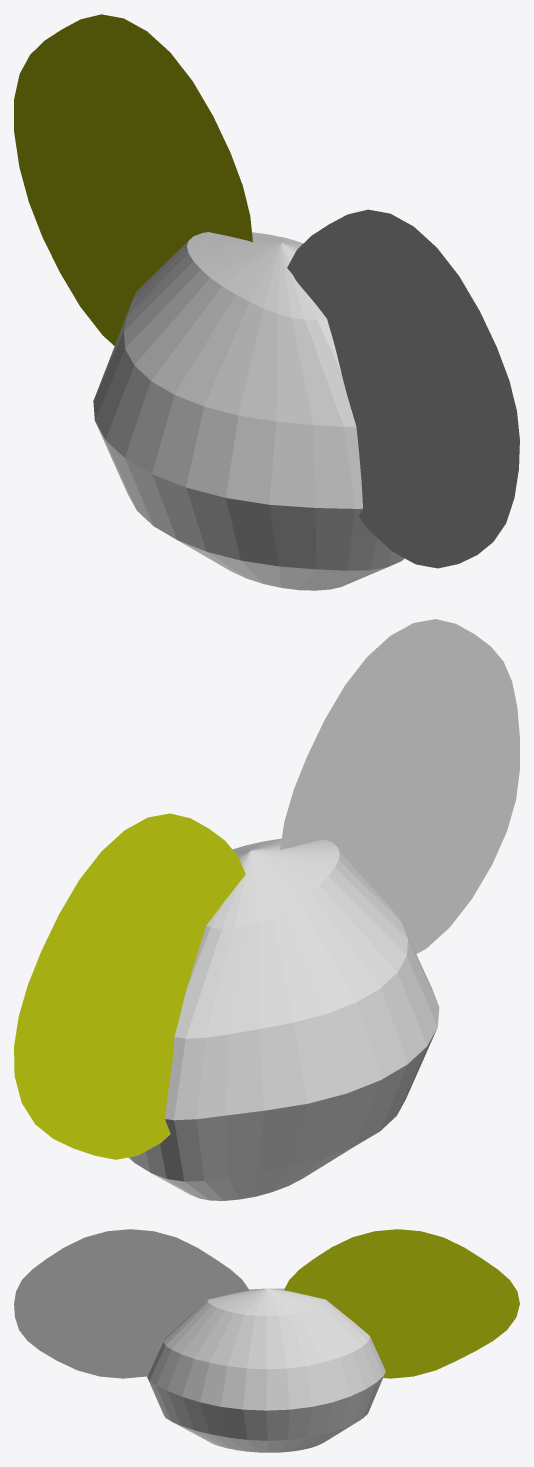
File: moths.fbx
The picture shows the model from 3 angles, top to bottom: view 1: azimuth 30°, elevation 25°; view 2: azimuth 150°, elevation 25°; view 3: azimuth 270°, elevation 25°; orthographic projection. The views are drawn at different scales.
Parts seen in each view (by area): view 1: Sphere, Circle.001, Circle; view 2: Sphere, Circle.001, Circle; view 3: Sphere, Circle.001, Circle.
Part boxes in pixels (x1,y1,x2,y2): Sphere: (93, 232, 404, 590); Circle.001: (287, 209, 519, 568); Circle: (14, 14, 252, 345); Sphere: (129, 838, 439, 1200); Circle.001: (280, 619, 519, 953); Circle: (14, 813, 245, 1159); Sphere: (147, 1288, 385, 1452); Circle.001: (14, 1229, 249, 1378); Circle: (284, 1229, 519, 1378).
Size of the model in its own units: 145 by 196 by 424.
